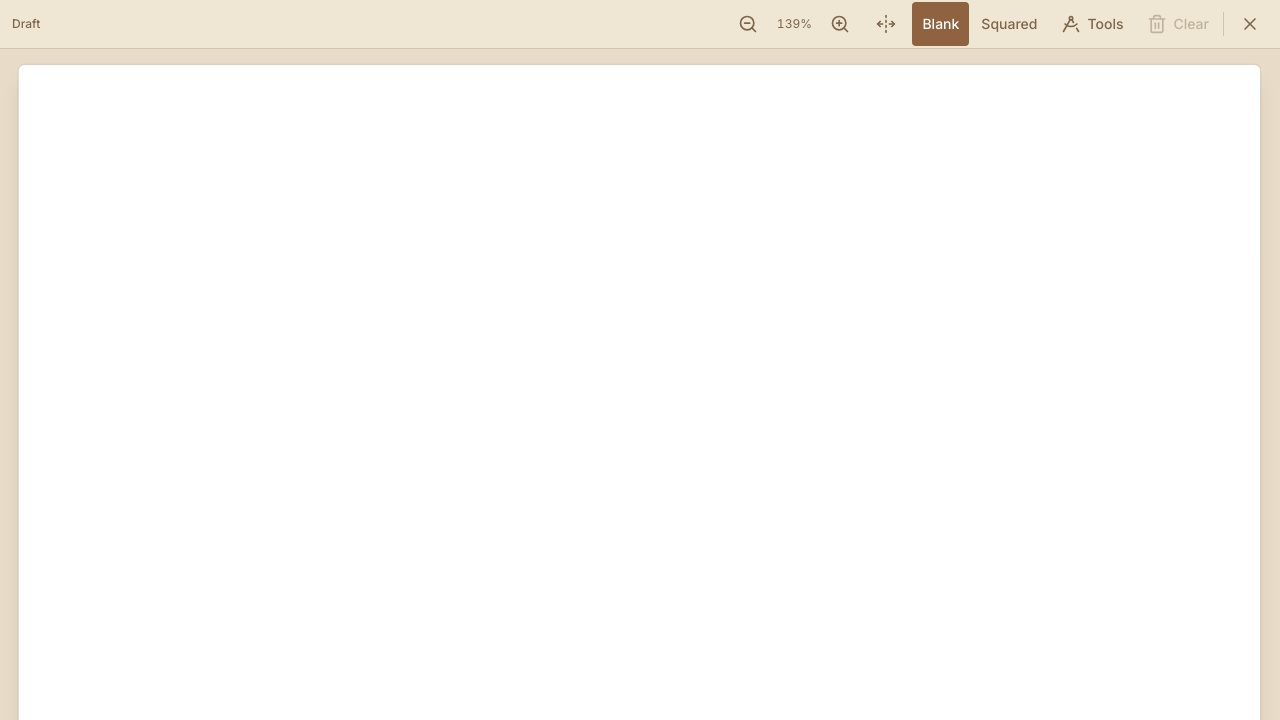
Test: DraftPane › drawing axes › stops placing on Escape without drawing anything, and keeps Escape from the lesson
The image size is (1280, 720).
Click the button "Tools" at (1092, 24), box x1=1051 y1=2 x2=1133 y2=46
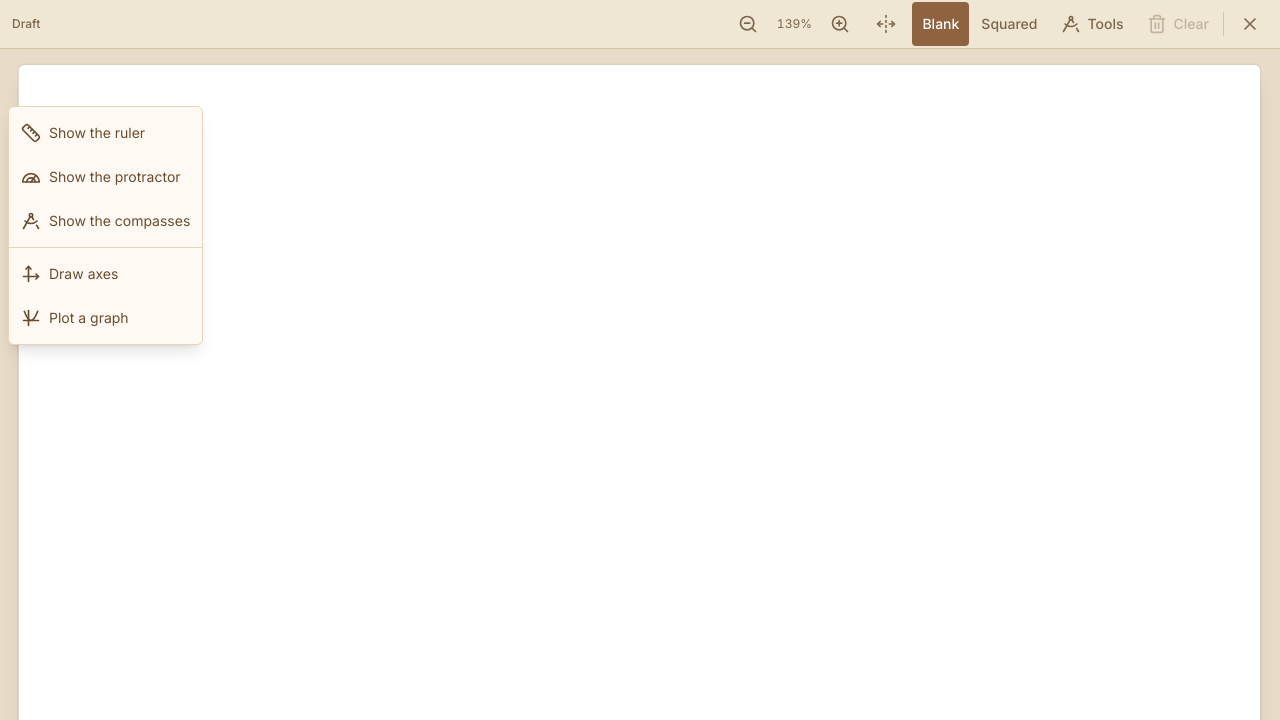
Click the menu item "Draw axes" at (106, 274), box x1=9 y1=252 x2=202 y2=296
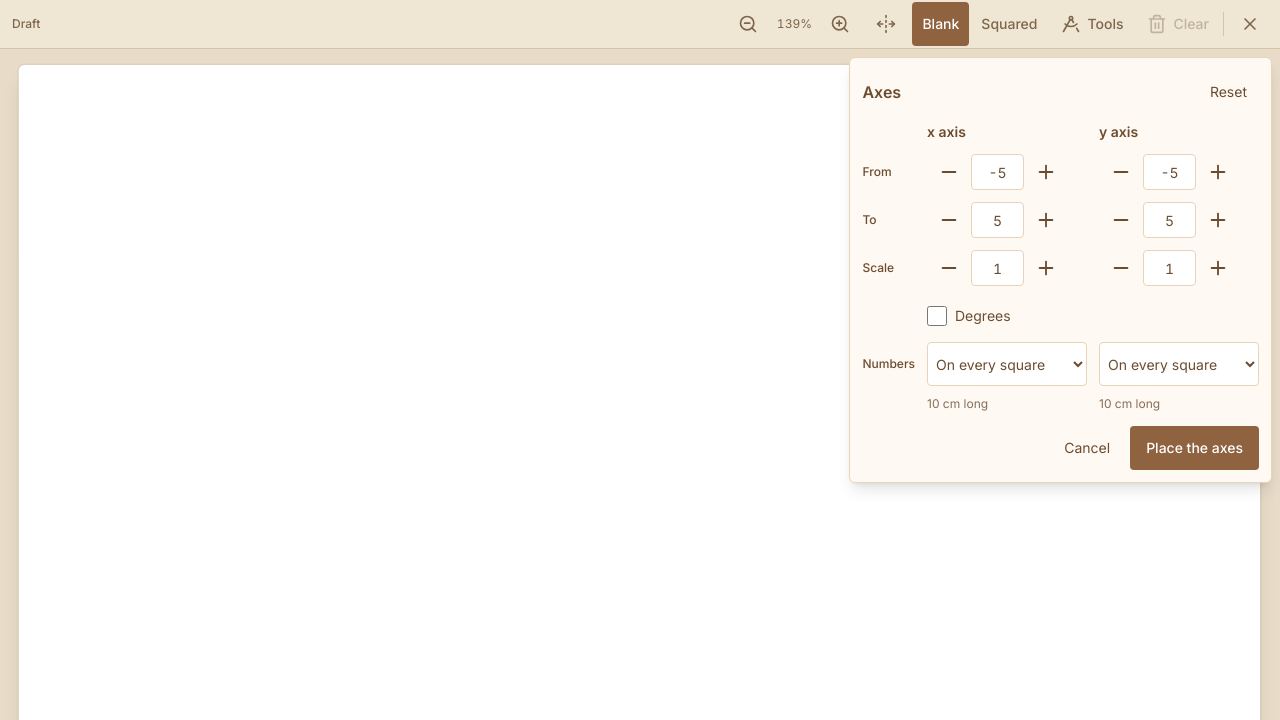
Click the button "Place the axes" at (1195, 448), box x1=1130 y1=426 x2=1259 y2=470
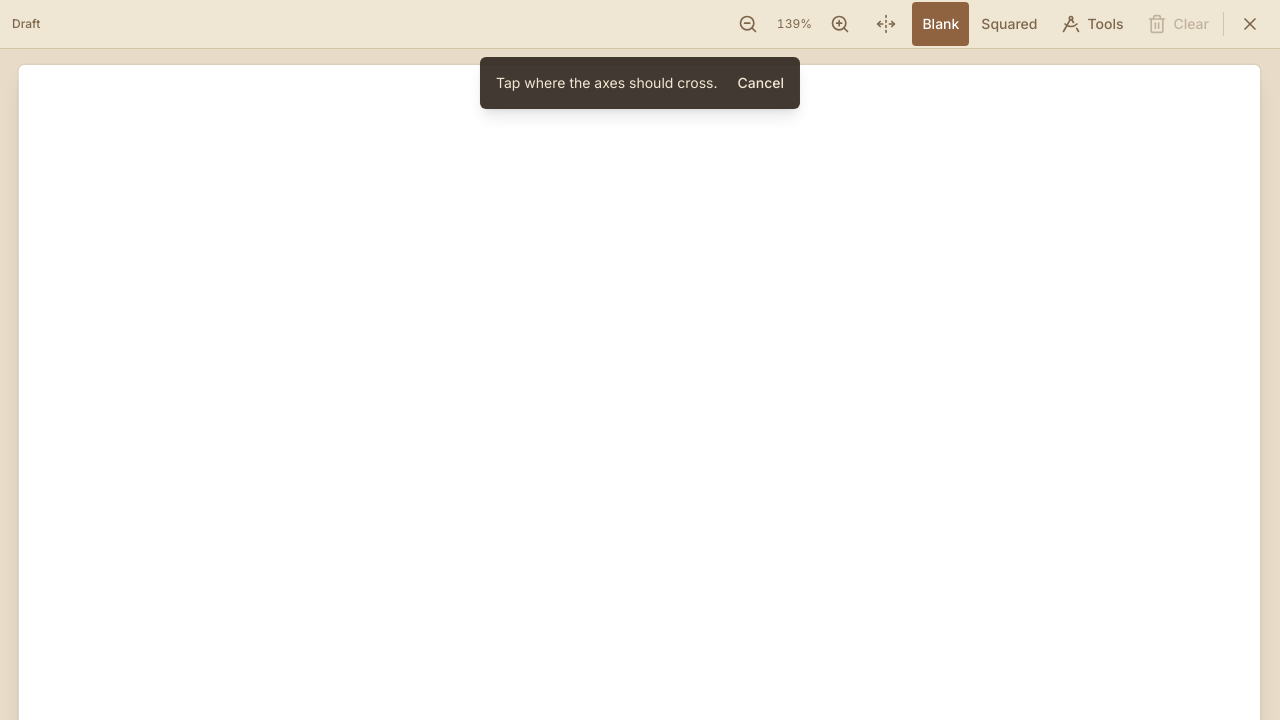
Press Escape
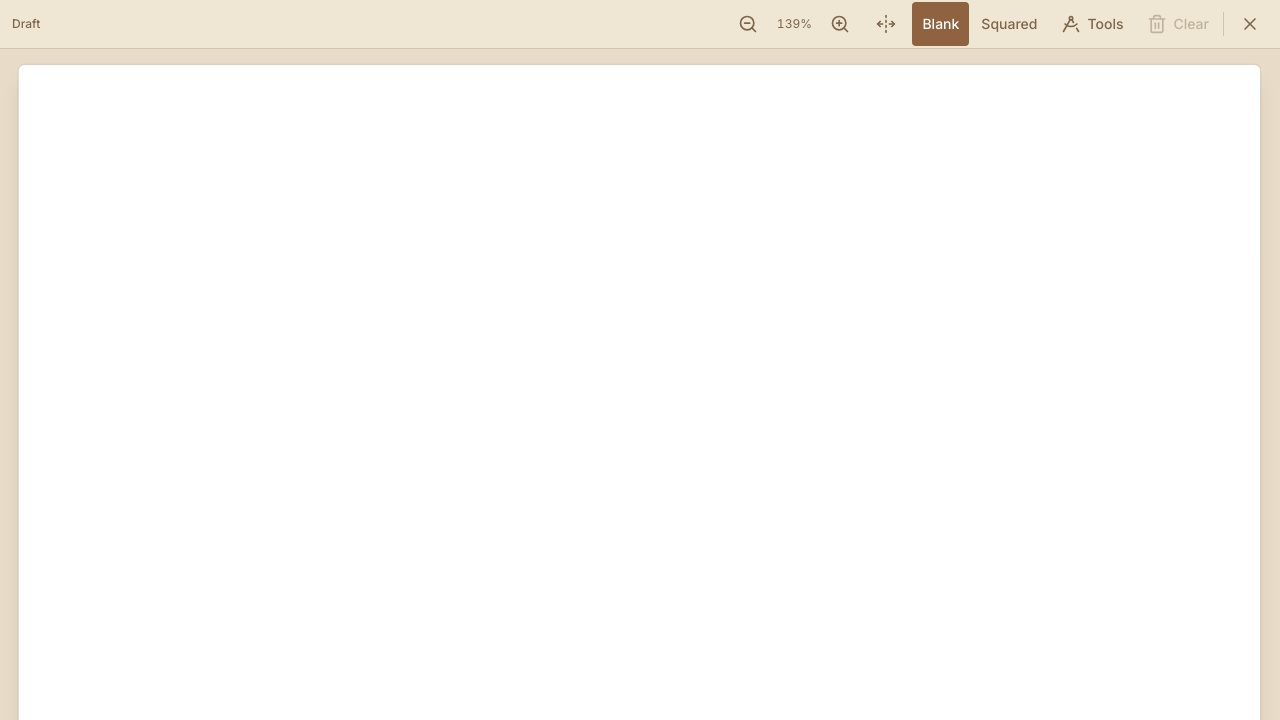
Expected: the text "Tap where the axes should cross." is gone
